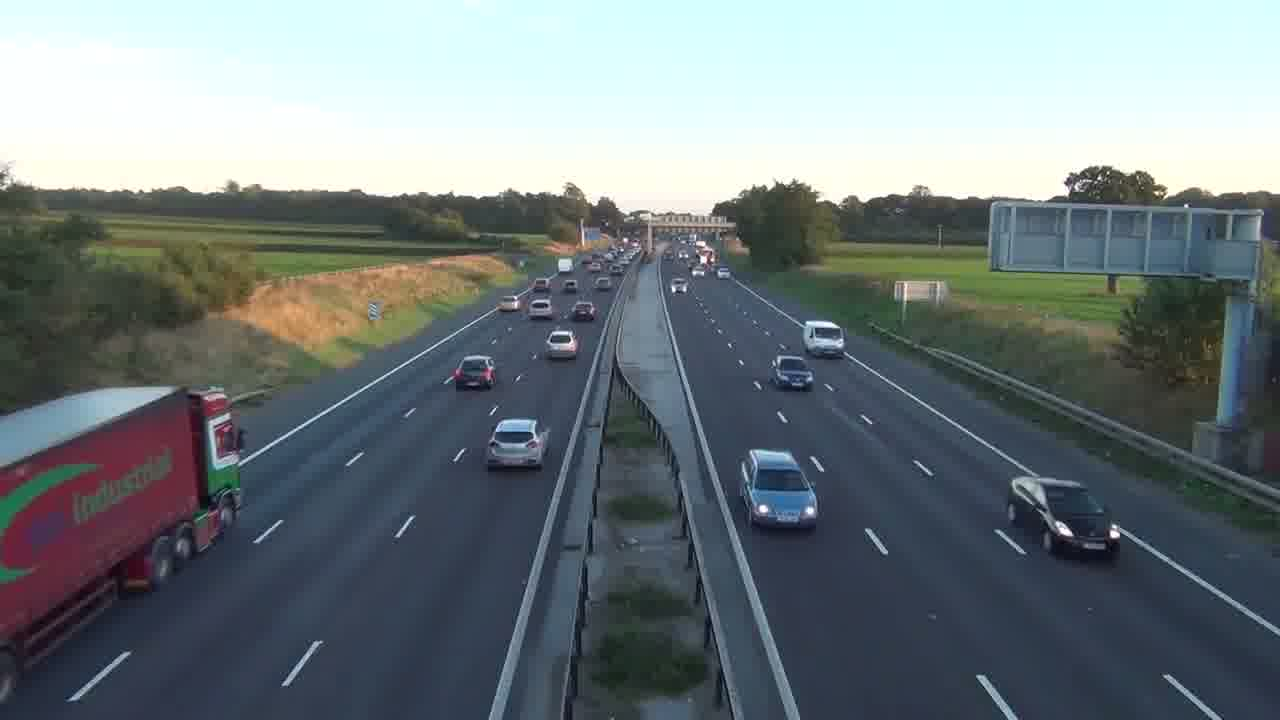car: (1007, 475, 1122, 561), (738, 448, 820, 531), (485, 417, 549, 470), (452, 354, 497, 391), (770, 355, 814, 391), (544, 328, 580, 360), (571, 300, 597, 322)
truck: (1, 384, 245, 700), (1007, 475, 1122, 561), (801, 320, 846, 359)
